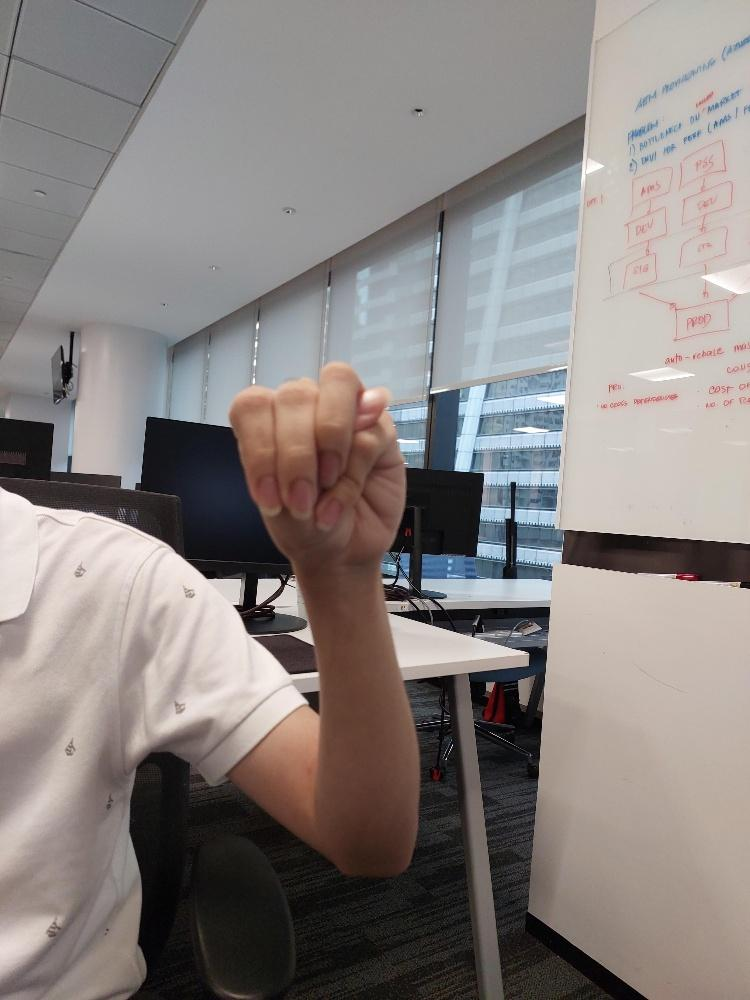m: (226, 354, 409, 574)
